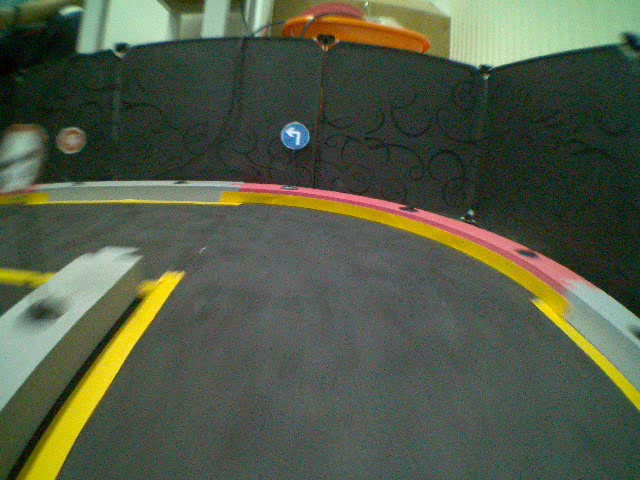Stop: (56, 125, 85, 154)
turn: (278, 120, 312, 151)
